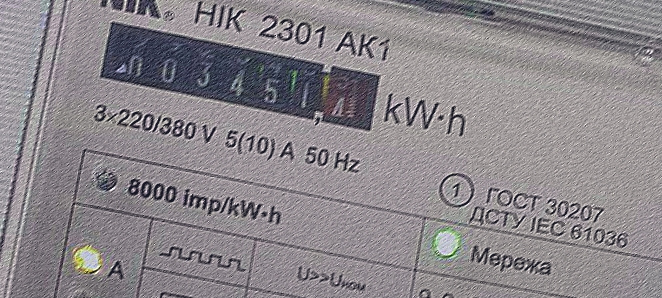0: (124, 49, 148, 79), (159, 54, 182, 85)
1: (296, 78, 317, 111)
3: (193, 57, 217, 90)
4: (226, 66, 251, 100), (327, 91, 351, 122)
5: (262, 73, 283, 106)
screen: (92, 15, 390, 140)
